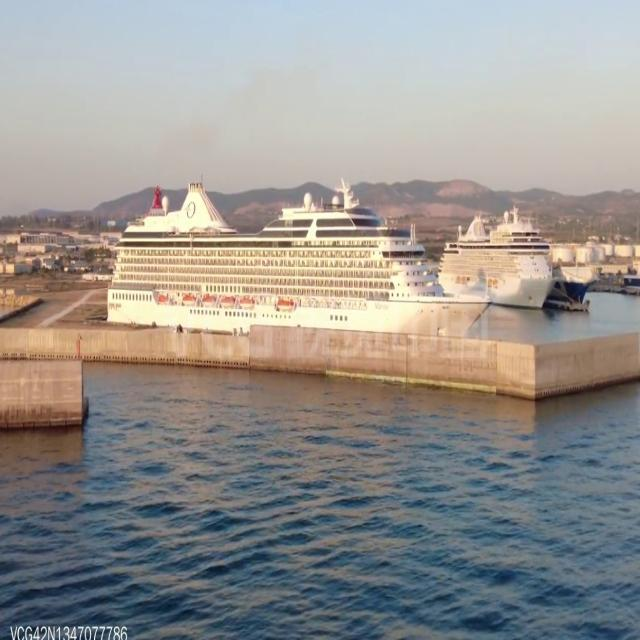passenger ship: (111, 178, 494, 339), (435, 204, 557, 311)
